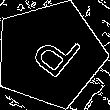P_SW: (18, 23, 81, 85)
